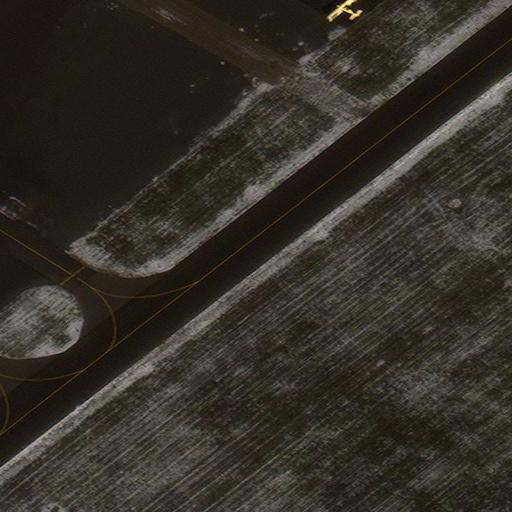Small Civil Transport: (325, 0, 358, 17)
